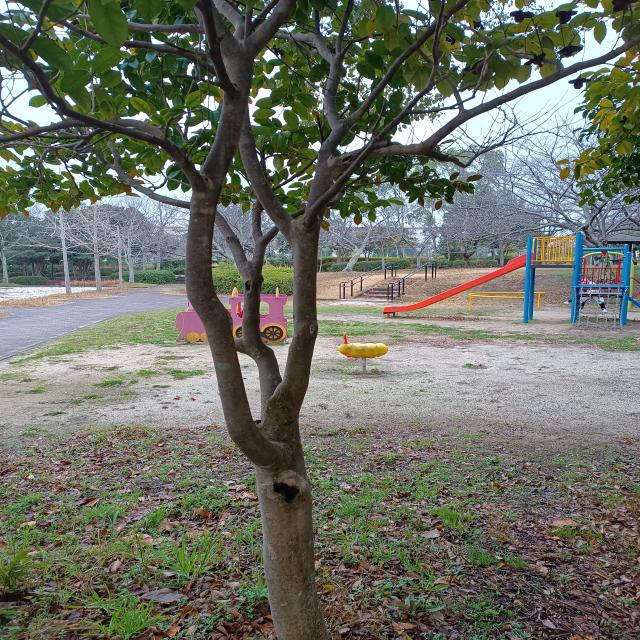Branch: (186, 35, 271, 467), (265, 210, 318, 419), (239, 109, 294, 240), (237, 259, 280, 420), (190, 0, 236, 59), (248, 0, 297, 53), (306, 155, 343, 225), (214, 209, 247, 272), (317, 119, 349, 161), (253, 225, 280, 274)
Twig: (340, 36, 640, 168), (0, 32, 197, 183), (306, 81, 436, 227), (346, 0, 468, 128), (56, 18, 215, 75), (277, 32, 344, 125), (107, 140, 190, 208), (198, 1, 237, 95), (71, 13, 202, 33), (429, 140, 507, 169), (430, 0, 445, 80), (336, 0, 353, 52), (252, 199, 264, 241)
